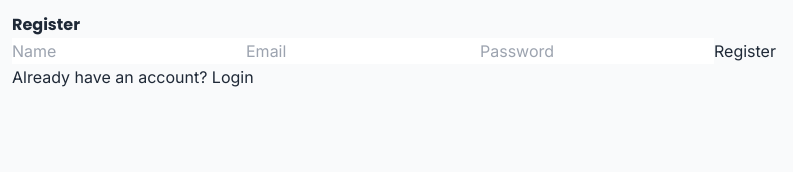
it: Register Page › displays error on failure
In the field with placeholder "Name": (129,51) [12, 38, 246, 64], type "Ann"
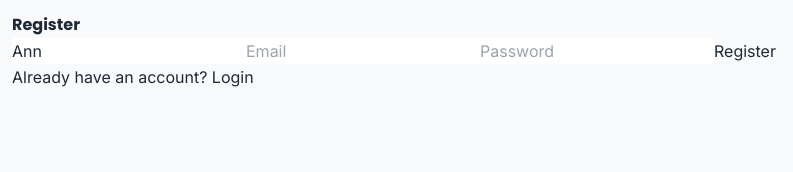
In the field with placeholder "Email": (363,51) [246, 38, 480, 64], type "ann@ex.com"
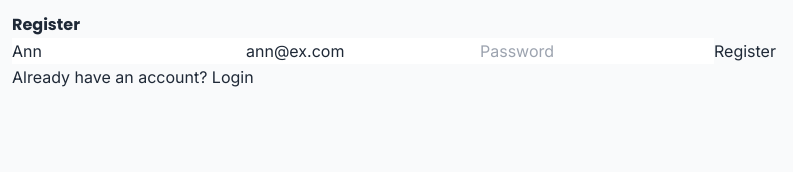
In the password field with placeholder "Password": (597,51) [480, 38, 714, 64], type "pw"
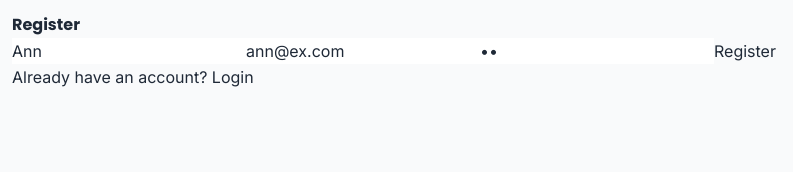
Click the button "Register": (745,51) [714, 38, 776, 64]
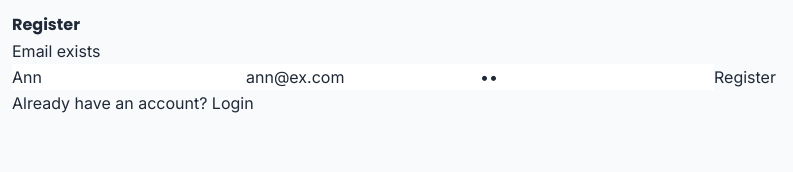
Check: the text "Email exists" is shown, box [12, 41, 100, 61]
